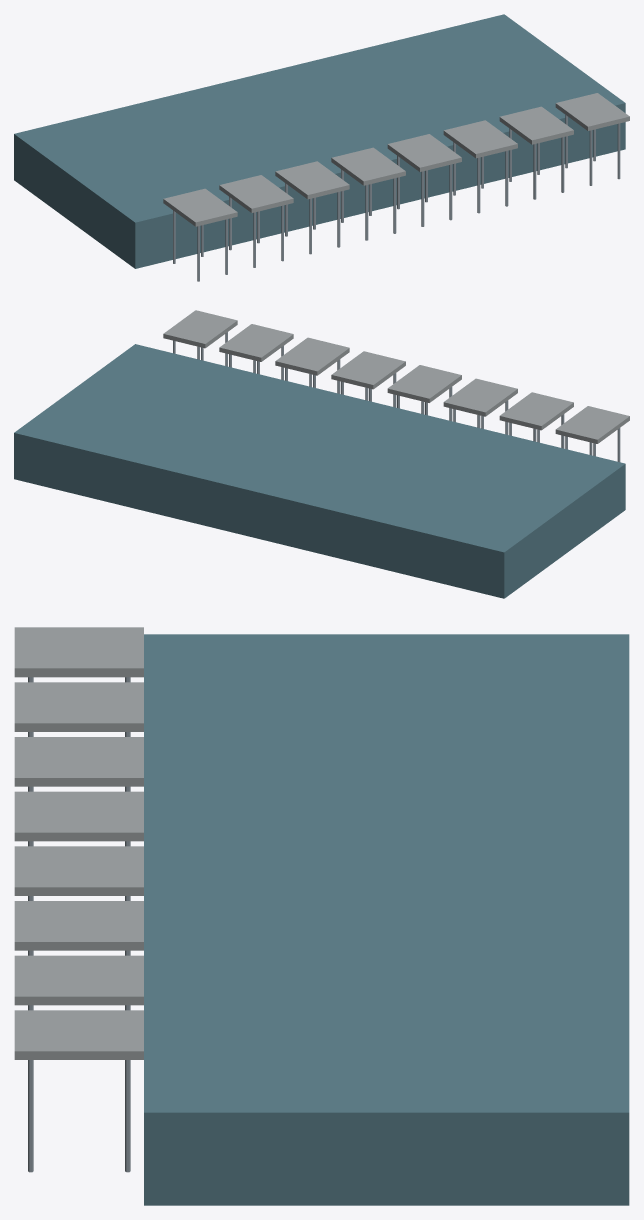
File: source.glb
3 views of the same model, one above another, from view 1: azimuth 30°, elevation 25°; view 2: azimuth 150°, elevation 25°; view 3: azimuth 270°, elevation 25° (orthographic). The views are drawn at different scales.
Parts seen in each view (by area): view 1: worldgen; view 2: worldgen; view 3: worldgen.
Part boxes in pixels (bbox=[...]): worldgen: bbox=[14, 14, 629, 281]; worldgen: bbox=[14, 310, 629, 598]; worldgen: bbox=[14, 627, 629, 1205].
Bounding box in the file's own units: 140 × 17.3 × 76.
